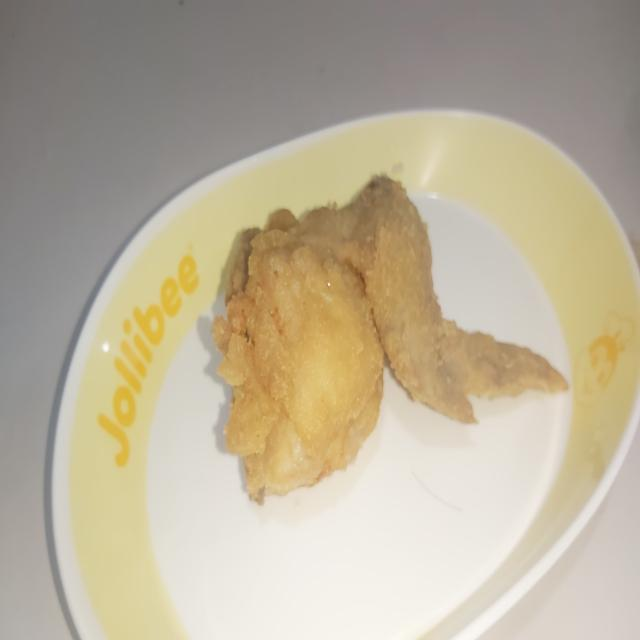Chicken -Fried Chicken-: (207, 170, 577, 510)
